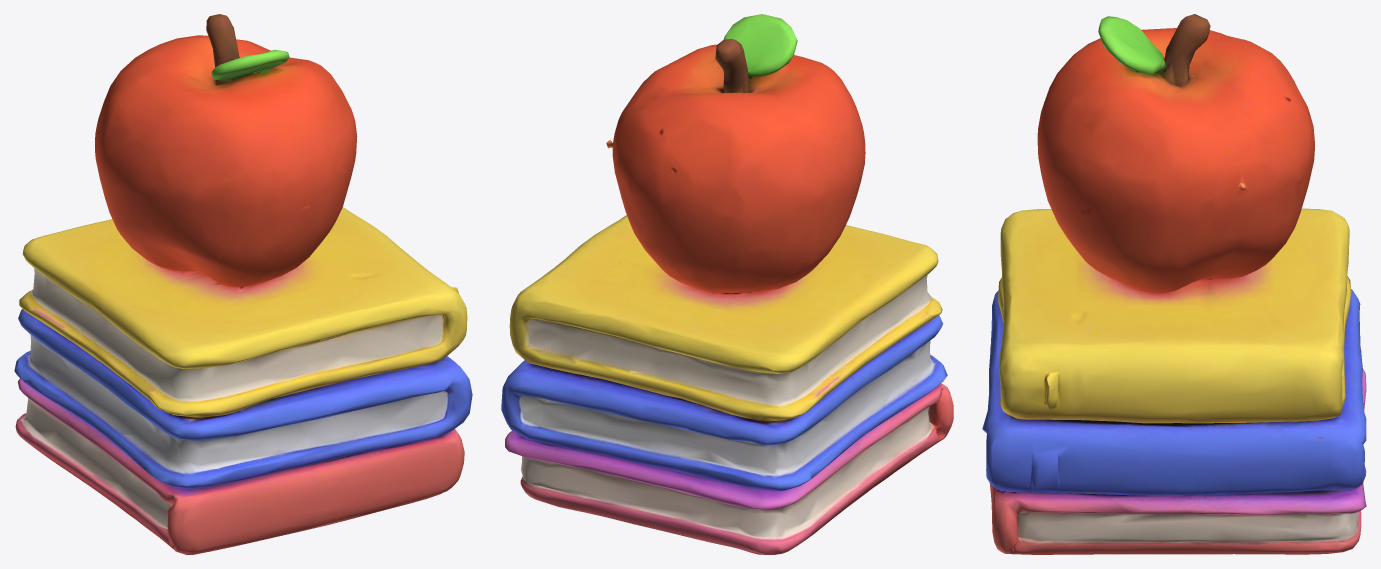
Rendered from books.glb.
3 views of the same model, side by side, from view 1: azimuth 30°, elevation 25°; view 2: azimuth 150°, elevation 25°; view 3: azimuth 270°, elevation 25° (orthographic). The views are drawn at different scales.
Parts seen in each view (by area): view 1: tripo_node_63977aaa-6e51-400c-9c47-ce12f57b1201; view 2: tripo_node_63977aaa-6e51-400c-9c47-ce12f57b1201; view 3: tripo_node_63977aaa-6e51-400c-9c47-ce12f57b1201.
Boxes of the visible parts, x1=… form: tripo_node_63977aaa-6e51-400c-9c47-ce12f57b1201: x1=14, y1=14, x2=472, y2=554; tripo_node_63977aaa-6e51-400c-9c47-ce12f57b1201: x1=501, y1=14, x2=953, y2=554; tripo_node_63977aaa-6e51-400c-9c47-ce12f57b1201: x1=982, y1=14, x2=1366, y2=554.
Bounding box in the file's own units: 0.7237 × 1 × 0.7376.
Materials: 1 (1 with a texture image).
